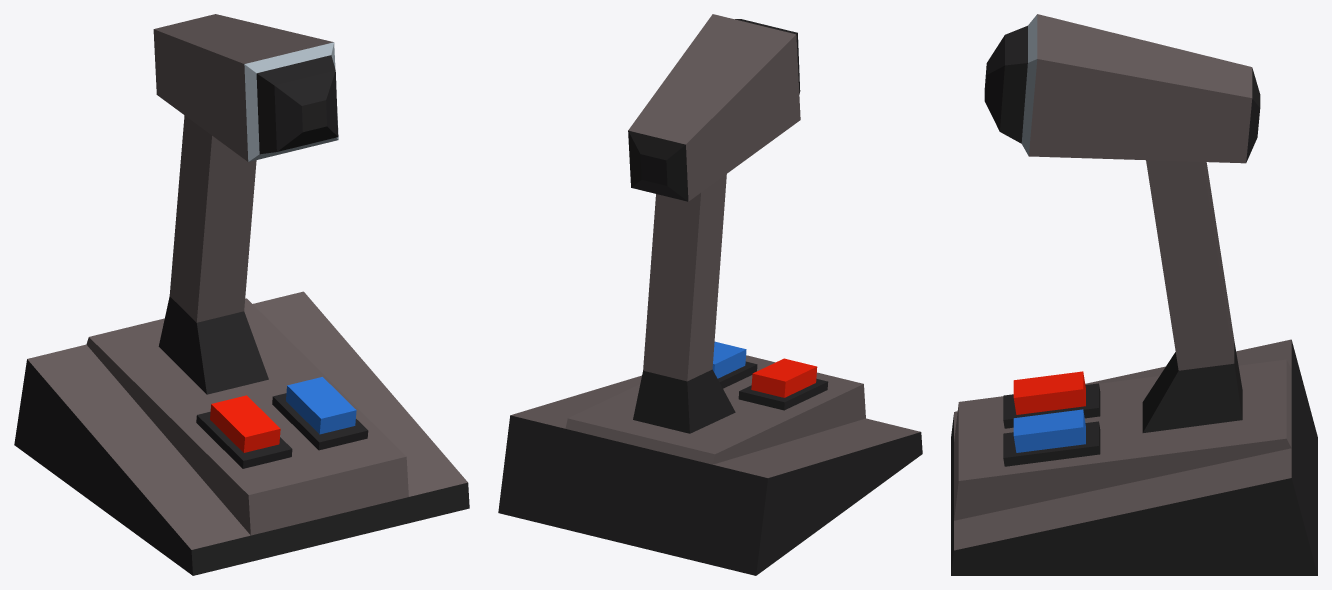
Rendered from AnnouncementMic.fbx.
3 views of the same model, side by side, from view 1: azimuth 30°, elevation 25°; view 2: azimuth 150°, elevation 25°; view 3: azimuth 270°, elevation 25° (orthographic). The views are drawn at different scales.
Visible parts, largest first — view 1: AnnouncementMic; view 2: AnnouncementMic; view 3: AnnouncementMic.
Boxes of the visible parts, <box> form: AnnouncementMic: <box>14,14,469,575</box>; AnnouncementMic: <box>498,14,922,575</box>; AnnouncementMic: <box>951,14,1317,575</box>.
Bounding box in the file's own units: 35 × 55.4 × 39.17.
